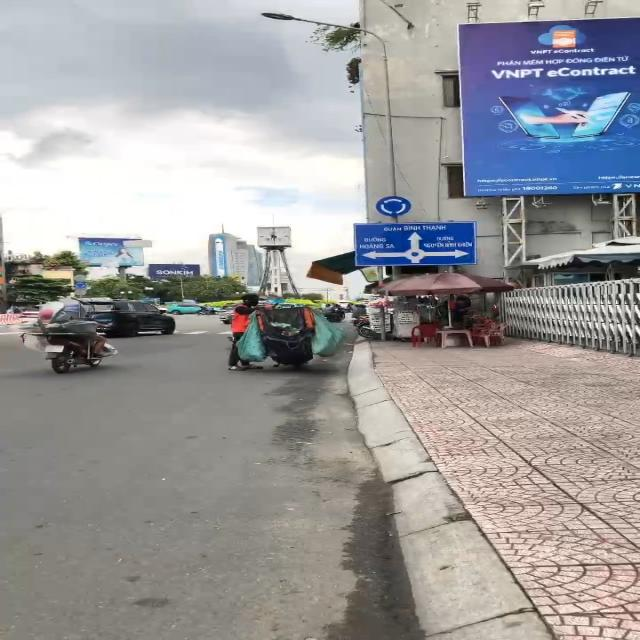Bien bao noi giao nhau chay theo vong xuyen: (372, 194, 416, 217)
